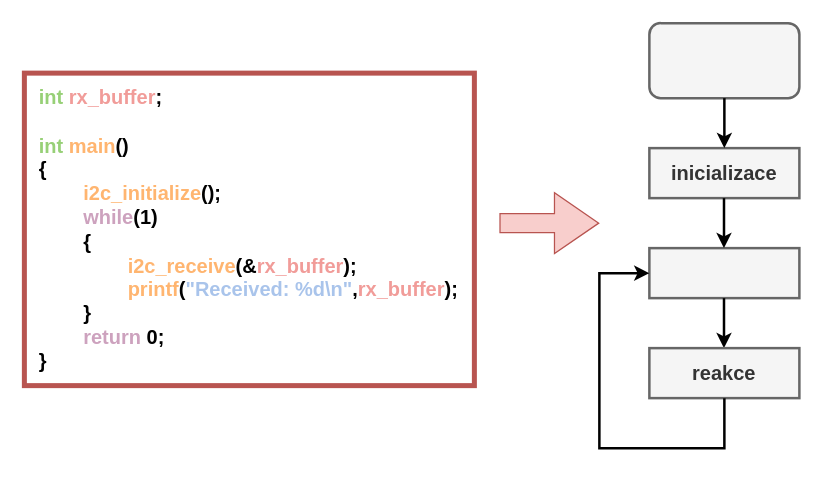
This 821x480 diagram has some shape labels left out. Each missing label, with the centre of its shape:
"příjem dat z periferie" belongs at (x=724, y=272).
"start" belongs at (x=724, y=60).
